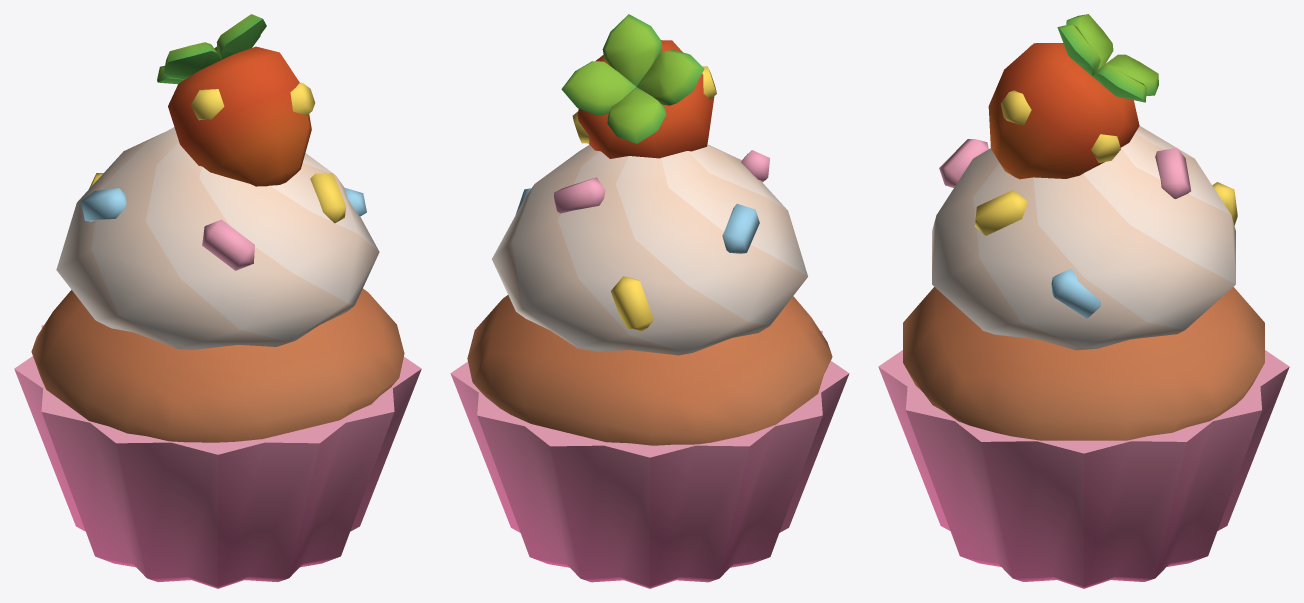
The model's file is cupcake.glb.
The picture shows the model from 3 angles, left to right: view 1: azimuth 30°, elevation 25°; view 2: azimuth 150°, elevation 25°; view 3: azimuth 270°, elevation 25°; orthographic projection. The views are drawn at different scales.
Parts seen in each view (by area): view 1: cupcake; view 2: cupcake; view 3: cupcake.
Part boxes in pixels (box(x1,y1,x2,y2)): cupcake: box(14, 14, 421, 588); cupcake: box(450, 14, 849, 588); cupcake: box(878, 14, 1289, 588).
Bounding box in the file's own units: 0.3617 × 0.5102 × 0.3617.
Materials: 1 (1 with a texture image).
